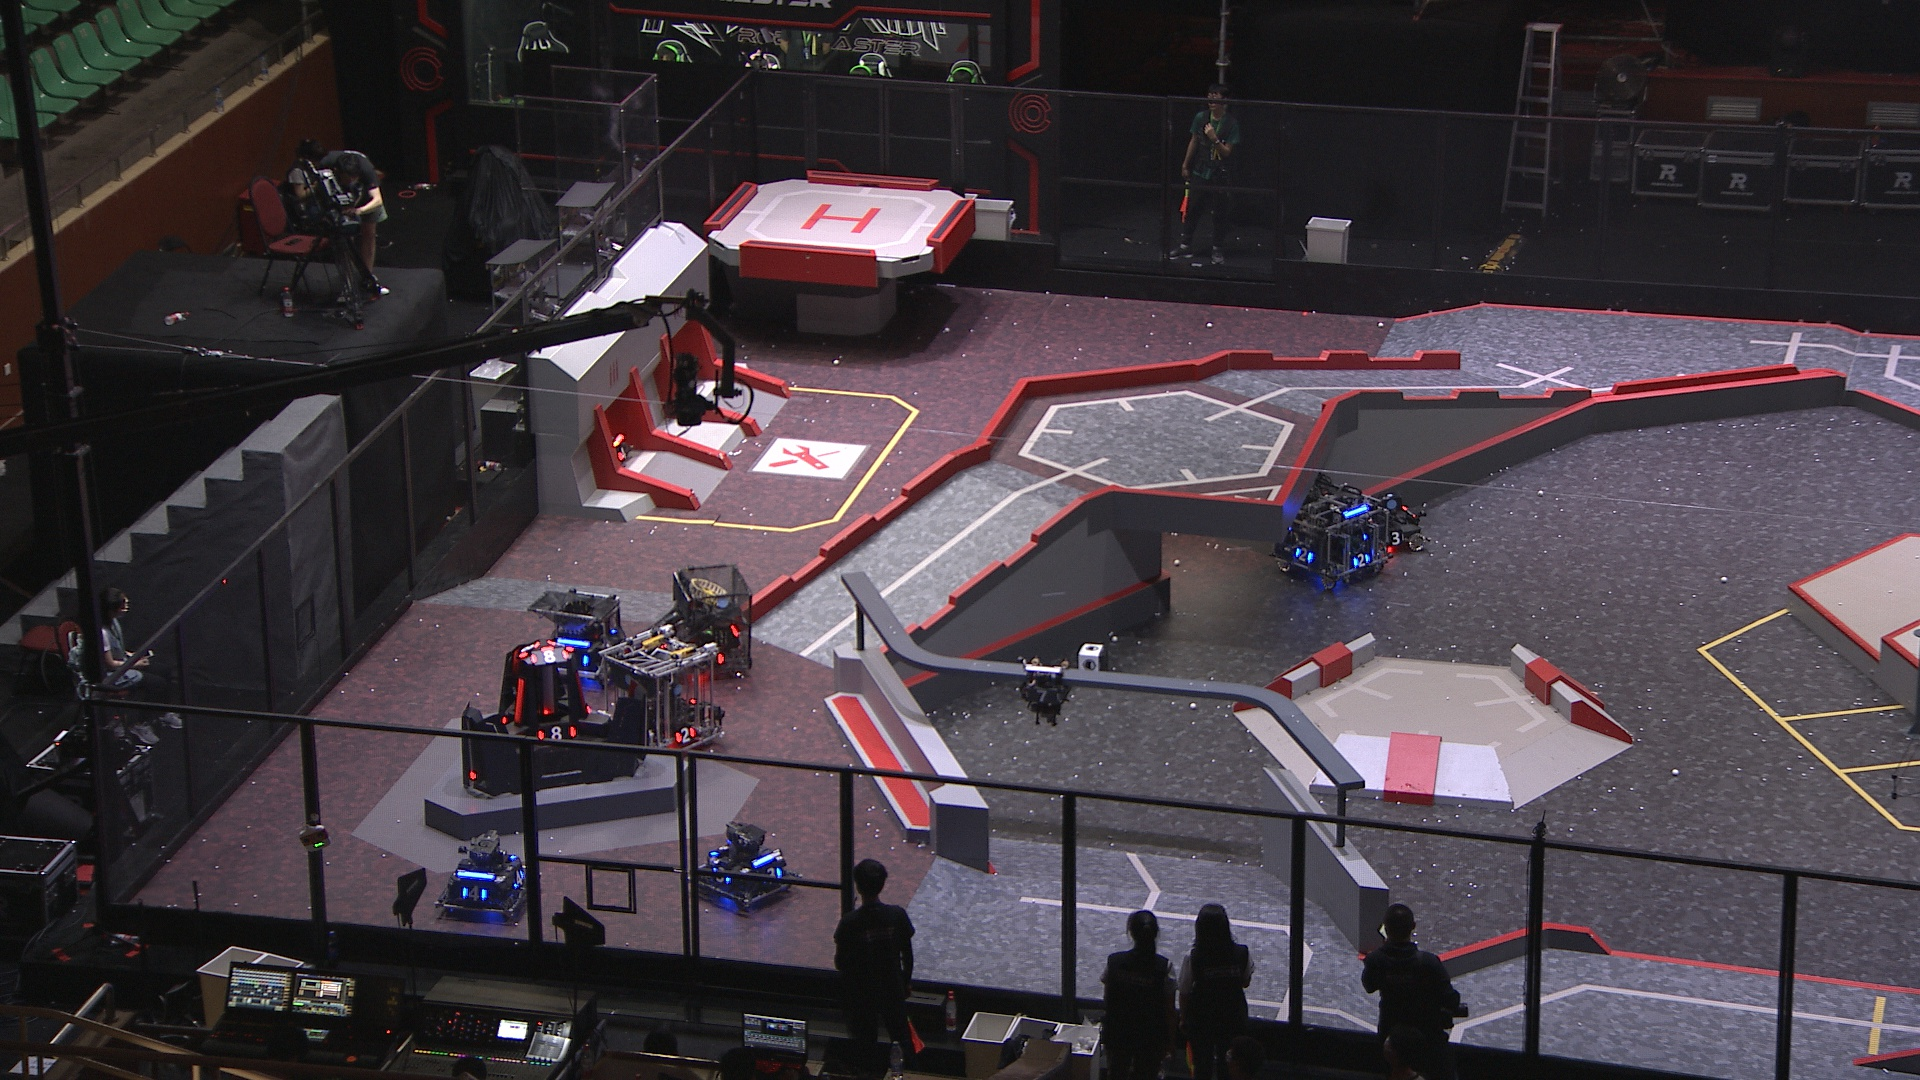armor: (529, 646, 566, 665), (538, 725, 576, 741), (512, 678, 524, 725), (709, 865, 736, 885), (1026, 688, 1059, 704), (673, 727, 698, 744), (761, 865, 782, 885), (1291, 546, 1313, 564), (462, 887, 487, 903), (520, 636, 535, 659), (1385, 531, 1406, 547), (713, 843, 733, 858), (615, 444, 632, 462), (1352, 553, 1371, 567), (510, 869, 524, 889), (542, 707, 553, 717), (467, 769, 476, 779)
base: (458, 632, 659, 787)
car: (596, 622, 731, 760), (1273, 473, 1393, 593), (531, 585, 637, 709), (655, 562, 756, 684), (688, 816, 793, 913), (429, 831, 534, 926), (1354, 489, 1429, 560), (579, 405, 644, 480)
watcher: (1015, 654, 1076, 727)
